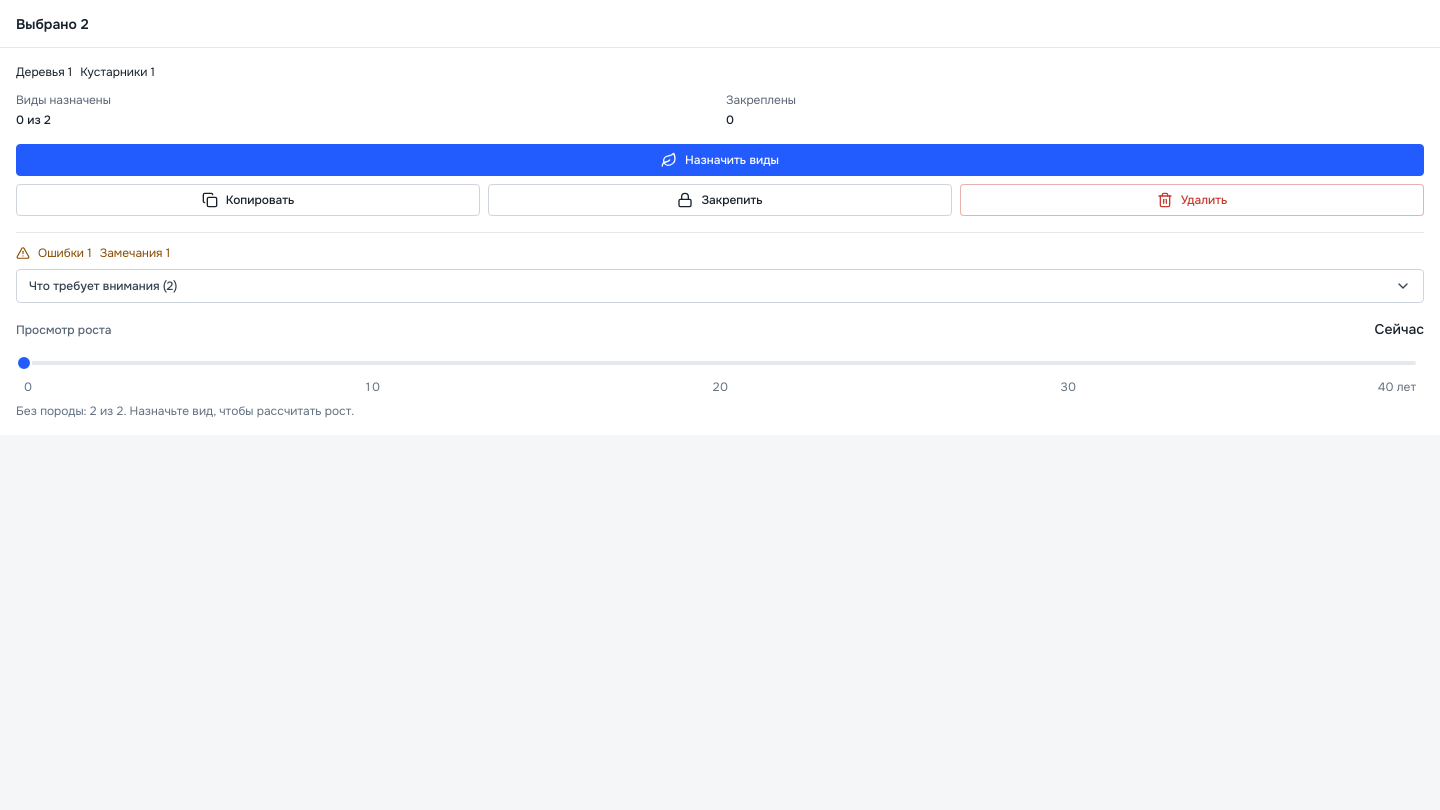
GroupInspector › shows detailed issues only for objects in the selected group
The width and height of the screenshot is (1440, 810).
Expected: the message named "Ошибки: 1. Замечания: 1." is shown, [16,245,170,261]
Click the button "Что требует внимания (2)" at (103, 286), box [17,270,1423,302]
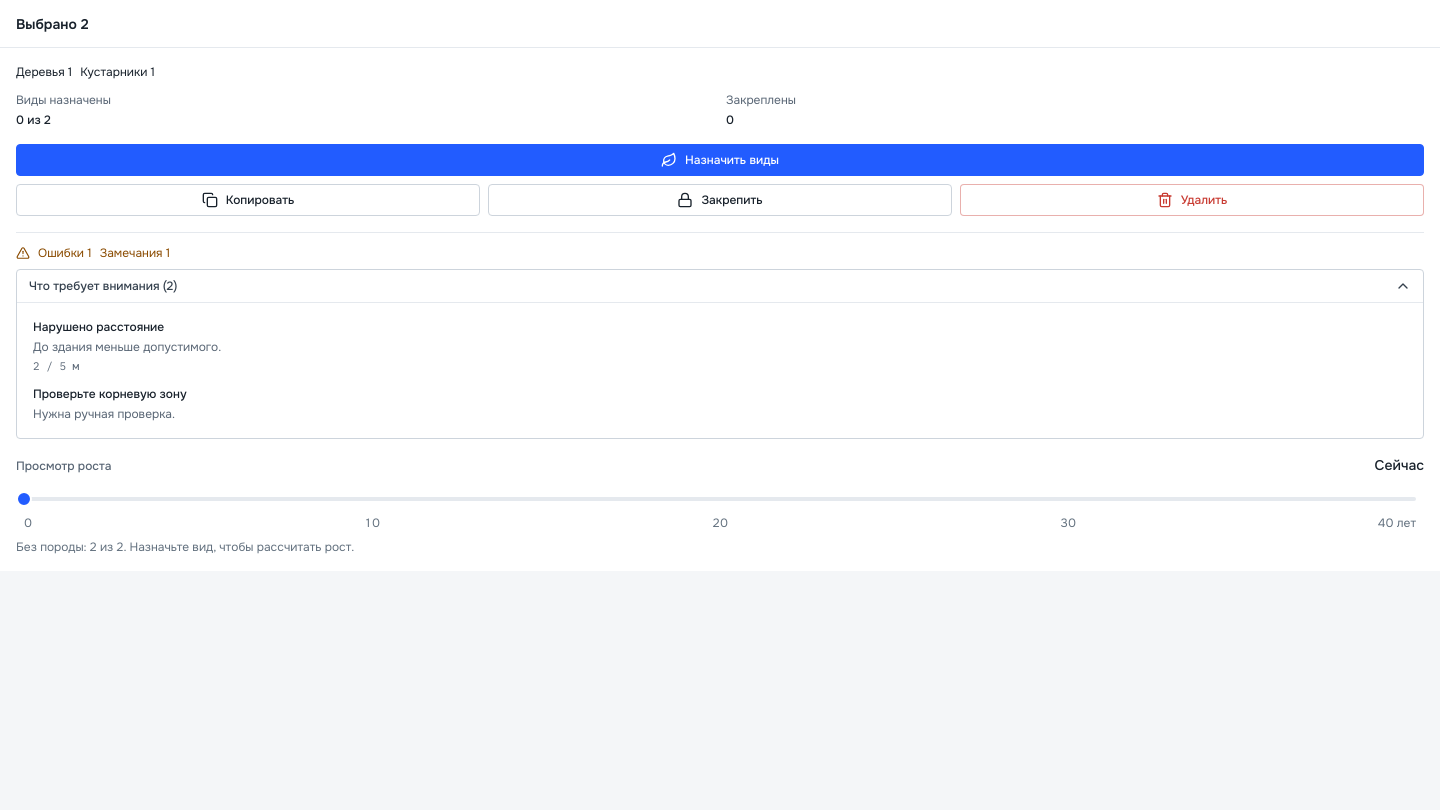
Expected: the button "Что требует внимания (2)" is expanded, [17,270,1423,302]
Expected: the text "Нарушено расстояние" is shown, [33,319,164,335]
Expected: the text "2 / 5 м" is shown, [33,359,79,373]
